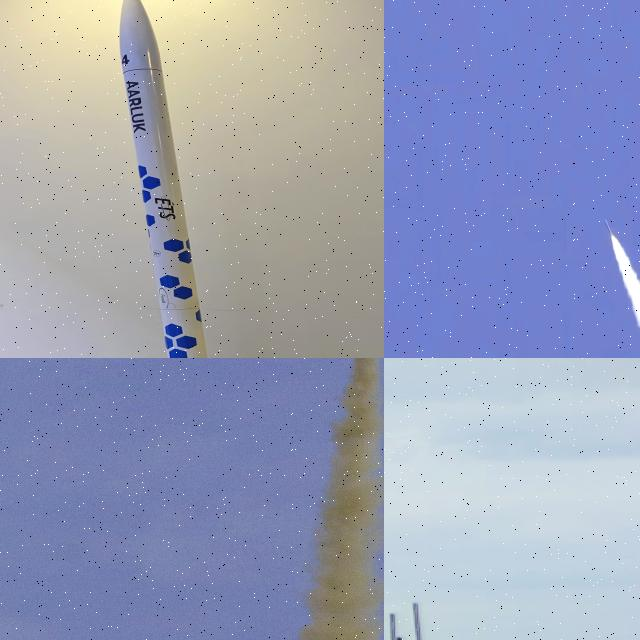Rocket: (120, 0, 208, 358), (604, 212, 615, 238)
